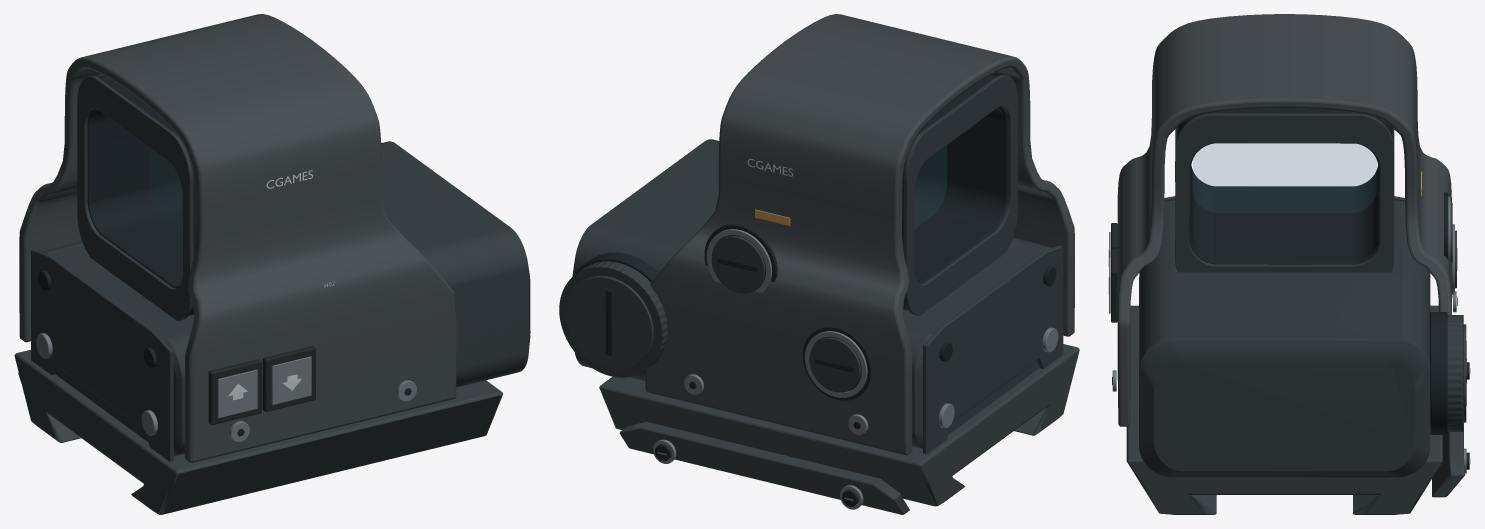
The model's file is H02_Holo_A5_Rail.fbx.
3 views of the same model, side by side, from view 1: azimuth 30°, elevation 25°; view 2: azimuth 150°, elevation 25°; view 3: azimuth 270°, elevation 25° (orthographic). The views are drawn at different scales.
Parts seen in each view (by area): view 1: 01 open protective U hood, 02 rounded forward casing, 04 undercut adapter bridge, 02 rear visible face plate, 03 inner window structural frame, 03 window rim rear, 03 transparent visual pane, 05 left button face, 05 left button face.001, 05 left button gasket, 05 left button gasket.001; view 2: 01 open protective U hood, 04 undercut adapter bridge, 02 rounded forward casing, 02 rear visible face plate, 03 inner window structural frame, 03 window rim rear, 04 independent right side strip, 05 front cap center, 05 front cap fine grip, 05 right inset disk, 05 right inset disk.001, 03 transparent visual pane (+5 smaller); view 3: 02 rounded forward casing, 01 open protective U hood, 03 inner window structural frame, 03 transparent visual pane, 03 window rim front, 04 undercut adapter bridge, 05 front side cap seat, 05 front cap fine grip, 04 independent right side strip, 05 left button gasket.
Part boxes in pixels (x1,y1,x2,y2): 01 open protective U hood: [19, 14, 456, 462]; 02 rounded forward casing: [42, 141, 530, 456]; 04 undercut adapter bridge: [14, 349, 502, 514]; 02 rear visible face plate: [31, 249, 173, 461]; 03 inner window structural frame: [87, 75, 195, 315]; 03 window rim rear: [77, 76, 193, 320]; 03 transparent visual pane: [150, 148, 182, 231]; 05 left button face: [271, 356, 311, 404]; 05 left button face.001: [217, 369, 257, 418]; 05 left button gasket: [262, 346, 315, 411]; 05 left button gasket.001: [208, 359, 261, 424]; 01 open protective U hood: [645, 14, 1074, 455]; 04 undercut adapter bridge: [599, 344, 1079, 506]; 02 rounded forward casing: [572, 139, 1052, 448]; 02 rear visible face plate: [923, 245, 1063, 454]; 03 inner window structural frame: [902, 74, 1007, 310]; 03 window rim rear: [903, 75, 1017, 315]; 04 independent right side strip: [619, 421, 909, 514]; 05 front cap center: [566, 276, 653, 369]; 05 front cap fine grip: [559, 261, 667, 377]; 05 right inset disk: [711, 236, 765, 293]; 05 right inset disk.001: [809, 337, 860, 392]; 03 transparent visual pane: [914, 145, 946, 228]; 02 rounded forward casing: [1139, 200, 1430, 477]; 01 open protective U hood: [1117, 14, 1451, 426]; 03 inner window structural frame: [1177, 108, 1392, 264]; 03 transparent visual pane: [1193, 143, 1376, 212]; 03 window rim front: [1175, 113, 1394, 272]; 04 undercut adapter bridge: [1126, 305, 1442, 514]; 05 front side cap seat: [1430, 312, 1447, 434]; 05 front cap fine grip: [1447, 315, 1463, 431]; 04 independent right side strip: [1432, 423, 1465, 497]; 05 left button gasket: [1111, 248, 1117, 322].
Size of the model in its own units: 8.33 by 8.13 by 7.31.
